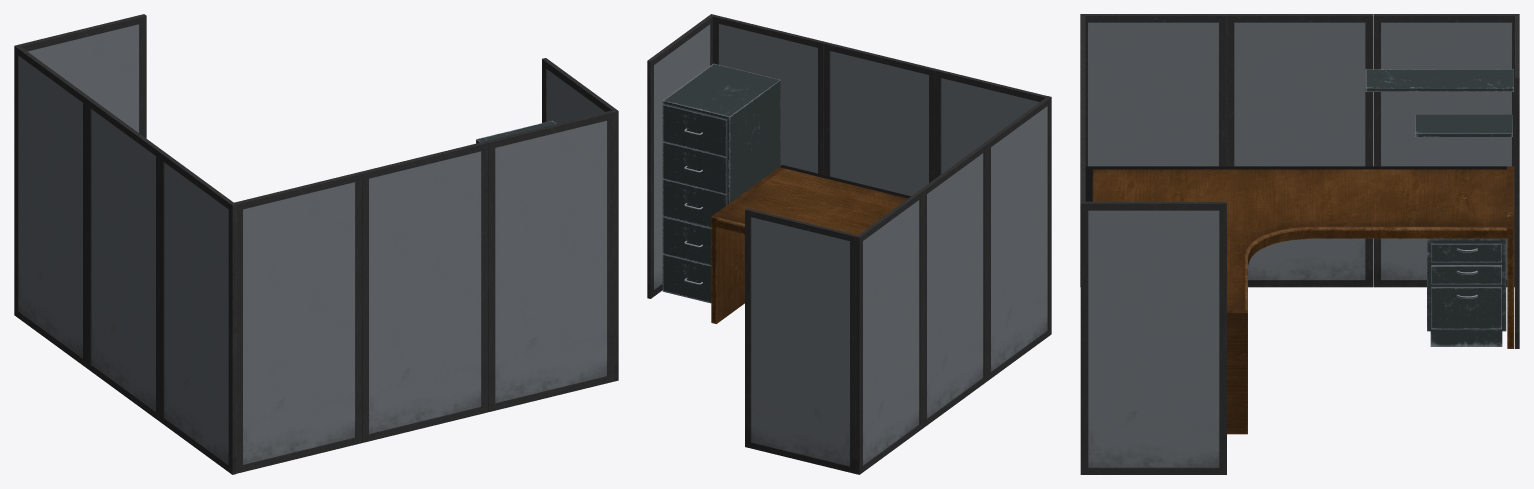
File: office_desk_7_mb.glb
3 views of the same model, side by side, from view 1: azimuth 30°, elevation 25°; view 2: azimuth 150°, elevation 25°; view 3: azimuth 270°, elevation 25° (orthographic). The views are drawn at different scales.
Visible parts, largest first — view 1: 02_02_0; view 2: 02_02_0, 01_01_0; view 3: 02_02_0, 01_01_0.
Part boxes in pixels (x1,y1,x2,y2): 02_02_0: (14,14,618,474); 02_02_0: (647,14,1051,474); 01_01_0: (662,63,780,303); 02_02_0: (1080,14,1519,474); 01_01_0: (1365,69,1513,346).
Size of the model in its own units: 3.98 by 2.65 by 3.89.
2 materials, 2 textured.
